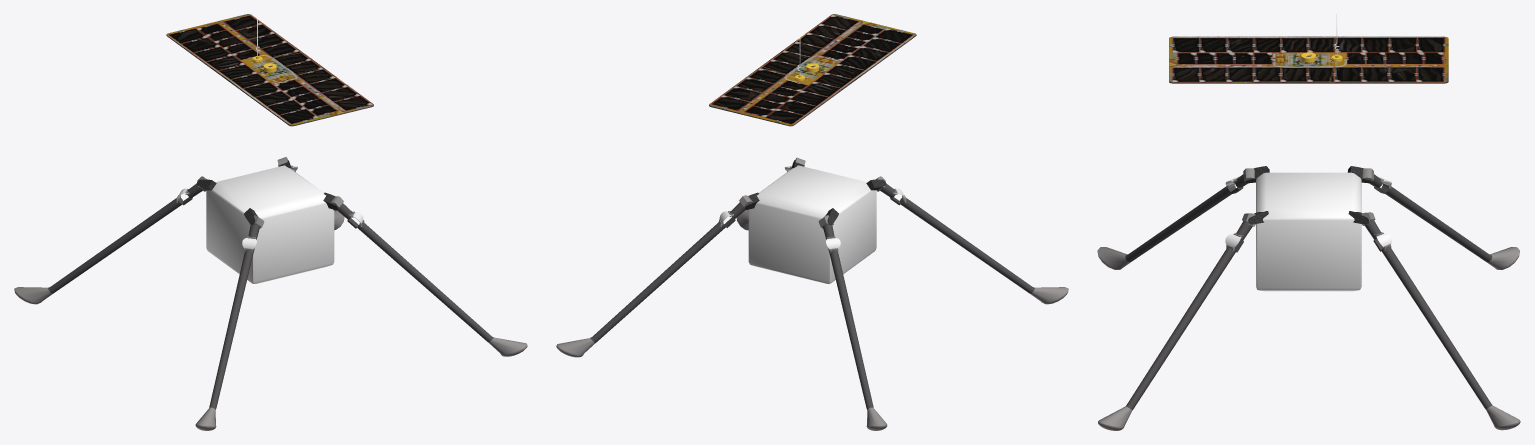
Rendered from ingenuity_body.glb.
3 renders of one model, left to right at view 1: azimuth 30°, elevation 25°; view 2: azimuth 150°, elevation 25°; view 3: azimuth 270°, elevation 25°, orthographic. The views are drawn at different scales.
Visible parts, largest first — view 1: bus, solar_panel, leg_03, leg_02, leg_01; view 2: bus, solar_panel, leg_04, leg_01, leg_02; view 3: solar_panel, bus, leg_03, leg_04, leg_01, leg_02.
Part boxes in pixels (<box>): bus: <box>196,160,337,283</box>; solar_panel: <box>166,14,373,126</box>; leg_03: <box>330,196,527,356</box>; leg_02: <box>14,176,206,304</box>; leg_01: <box>195,215,264,430</box>; bus: <box>744,160,886,283</box>; solar_panel: <box>709,14,916,126</box>; leg_04: <box>556,195,752,357</box>; leg_01: <box>876,176,1068,304</box>; leg_02: <box>818,215,887,430</box>; solar_panel: <box>1169,14,1448,83</box>; bus: <box>1246,166,1371,291</box>; leg_03: <box>1098,213,1255,430</box>; leg_04: <box>1361,212,1520,430</box>; leg_01: <box>1097,168,1254,269</box>; leg_02: <box>1362,168,1519,269</box>.
Bounding box in the file's own units: 0.6431 × 0.5621 × 0.643.
8 materials, 3 textured.
